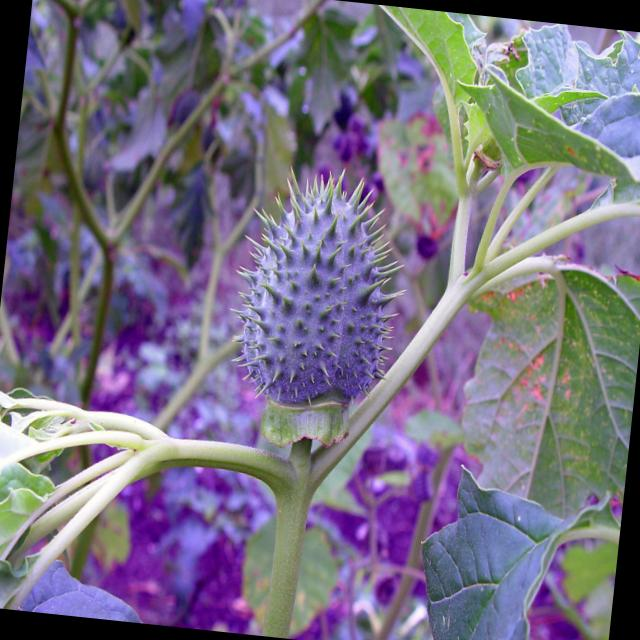Poisonous-Datura_Stramonium: (358, 5, 640, 275), (221, 158, 434, 442), (0, 394, 146, 621)
